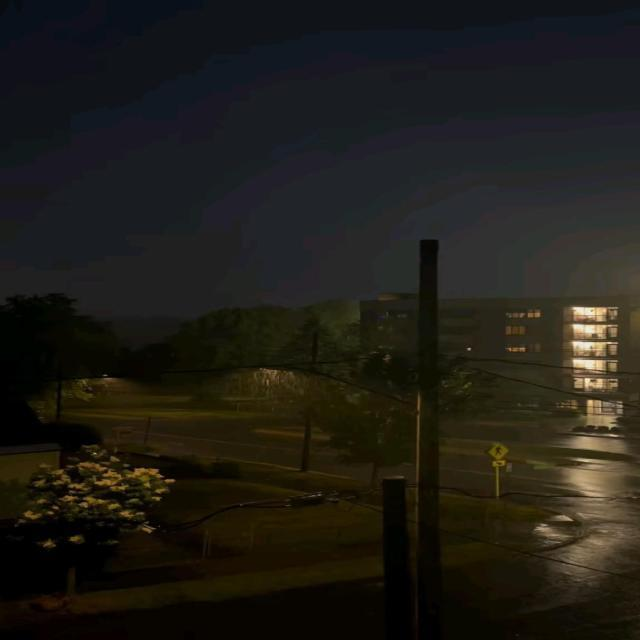on: (485, 260, 640, 436)
